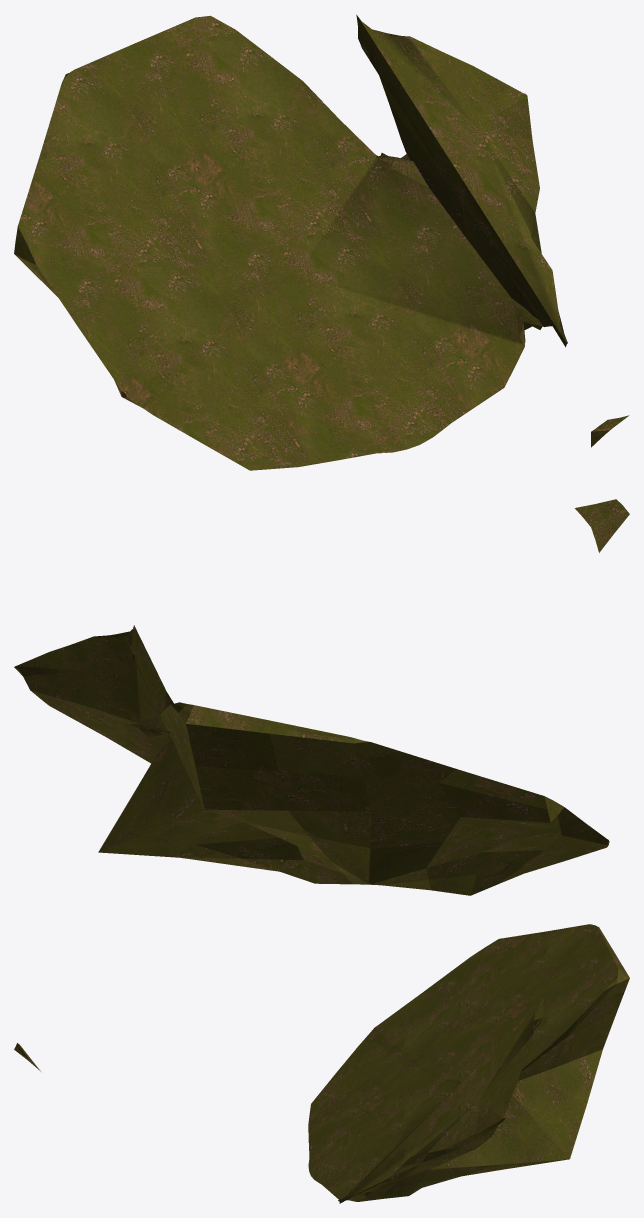
The model's file is outcrop_1.glb.
3 renders of one model, top to bottom at view 1: azimuth 30°, elevation 25°; view 2: azimuth 150°, elevation 25°; view 3: azimuth 270°, elevation 25°, orthographic. The views are drawn at different scales.
Visible parts, largest first — view 1: outcrop; view 2: outcrop; view 3: outcrop.
Boxes of the visible parts, x1,y1,x2,y2 form: outcrop: (14,14,629,470); outcrop: (14,499,629,895); outcrop: (14,924,629,1203).
Bounding box in the file's own units: 4.28 × 2.32 × 6.05.
1 material, 1 textured.
